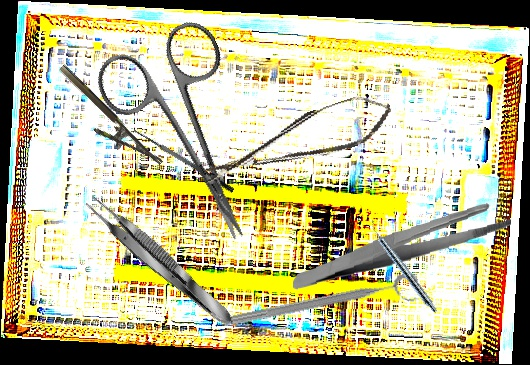Dressing Forceps: (289, 202, 514, 290)
Fixation Ring: (228, 271, 423, 341)
Handpiece: (365, 219, 441, 315)
Iris Scissors: (87, 14, 294, 267)
Micro Scissor: (195, 87, 399, 194)
Needle Holder: (46, 63, 163, 181)
Spatula Surgical: (128, 124, 236, 202)
Tissue Forceps: (80, 190, 238, 332)
